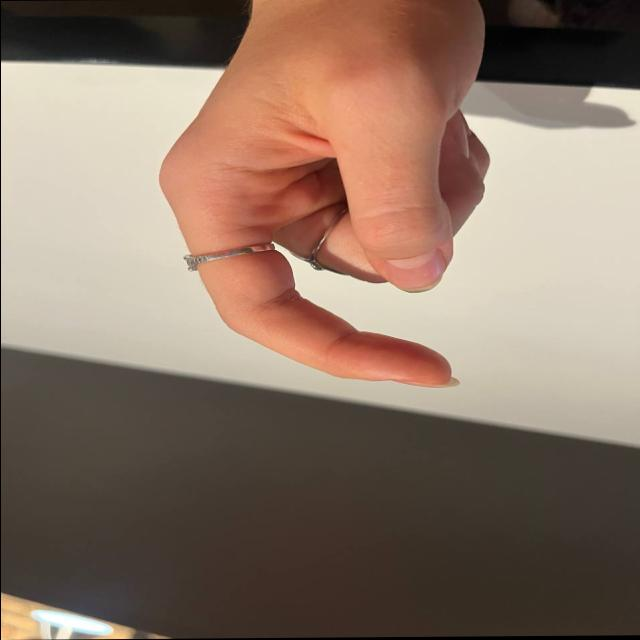kh: (153, 18, 518, 411)
